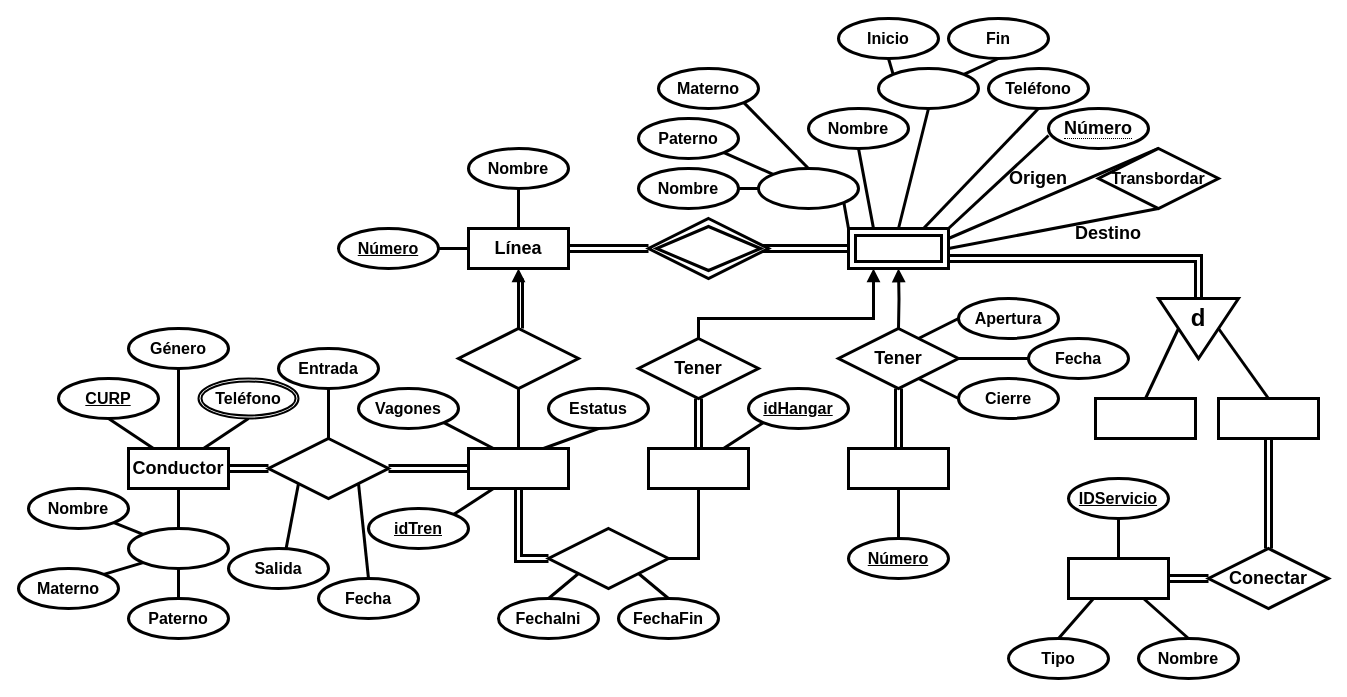
Image size: 1347x697. Some labels were removed from this diagram. The shapes that lost their labels are listed below. From the top down, each one's box as (x1, y1, x2, y2) in pixels, then its label:
(876, 66, 980, 110): Horario
(756, 166, 860, 210): Jefe
(646, 216, 770, 280): Pertenecer
(846, 226, 950, 270): Estación
(456, 326, 580, 390): Asignar
(1094, 396, 1196, 440): Normal
(1216, 396, 1320, 440): Mixta
(266, 436, 390, 500): Conducir
(466, 446, 570, 490): Tren
(646, 446, 750, 490): Hangar
(846, 446, 950, 490): Acceso
(126, 526, 230, 570): NombreC
(546, 526, 670, 590): Reservar
(1066, 556, 1170, 600): Servicio
